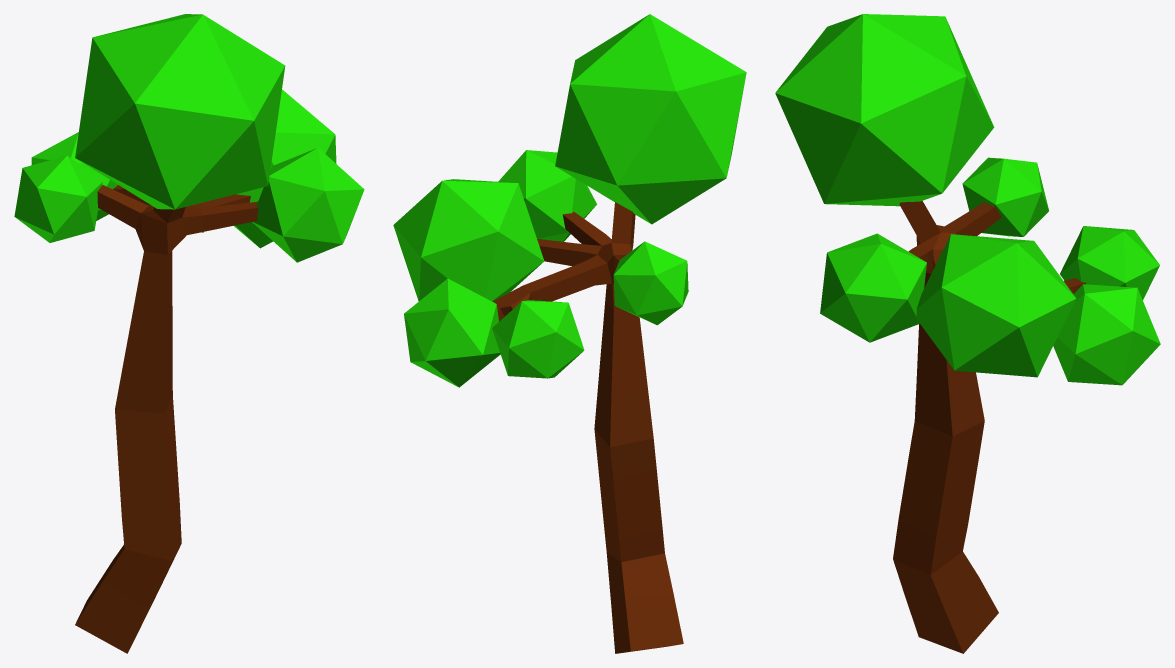
Rendered from Tree1.fbx.
3 renders of one model, left to right at view 1: azimuth 30°, elevation 25°; view 2: azimuth 150°, elevation 25°; view 3: azimuth 270°, elevation 25°, orthographic. The views are drawn at different scales.
Parts seen in each view (by area): view 1: Icosphere.009, Cube.001, Icosphere.008, Icosphere.011, Icosphere.007, Icosphere.010; view 2: Icosphere.009, Cube.001, Icosphere.007, Icosphere.006, Icosphere.010, Icosphere.008, Icosphere.011; view 3: Icosphere.009, Cube.001, Icosphere.007, Icosphere.008, Icosphere.006, Icosphere.011, Icosphere.010.
Part boxes in pixels (x1,y1,x2,y2): Icosphere.009: [75, 14, 285, 209]; Cube.001: [75, 185, 258, 653]; Icosphere.008: [252, 148, 364, 262]; Icosphere.011: [14, 155, 102, 242]; Icosphere.007: [233, 89, 336, 248]; Icosphere.010: [31, 132, 117, 220]; Icosphere.009: [555, 14, 746, 224]; Cube.001: [492, 202, 683, 653]; Icosphere.007: [393, 179, 544, 301]; Icosphere.006: [404, 278, 500, 387]; Icosphere.010: [492, 300, 584, 378]; Icosphere.008: [498, 150, 596, 241]; Icosphere.011: [613, 241, 688, 325]; Icosphere.009: [775, 14, 994, 206]; Cube.001: [893, 201, 1086, 653]; Icosphere.007: [916, 234, 1076, 377]; Icosphere.008: [820, 233, 926, 342]; Icosphere.006: [1053, 284, 1160, 385]; Icosphere.011: [962, 157, 1048, 236]; Icosphere.010: [1060, 226, 1159, 300].
Bounding box in the file's own units: 693 × 750 × 1386.
